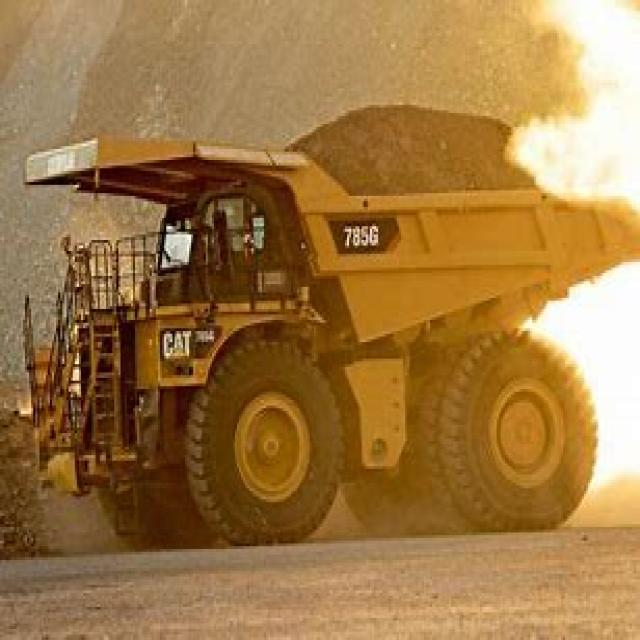dump_truck: (21, 88, 636, 574)
